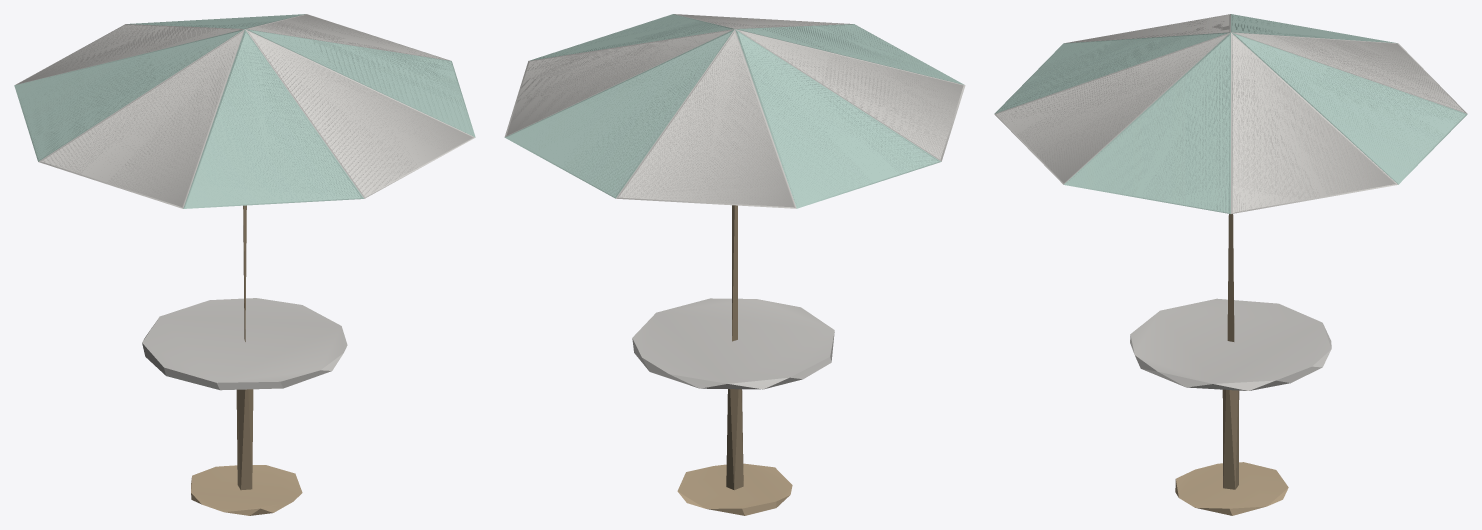
File: furn_parasol_table__mint_low.glb
The picture shows the model from 3 angles, left to right: view 1: azimuth 30°, elevation 25°; view 2: azimuth 150°, elevation 25°; view 3: azimuth 270°, elevation 25°; orthographic projection.
Size of the model in its own units: 2.1 by 2.25 by 2.1.
